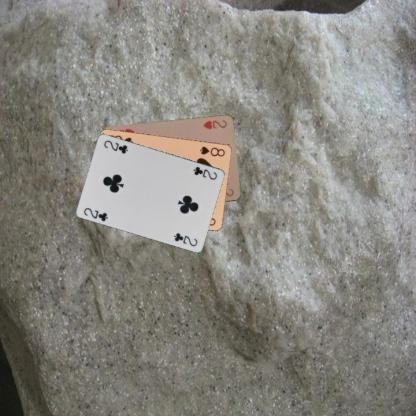2c: (191, 163, 218, 181), (82, 205, 109, 223)
2h: (201, 117, 228, 131)
8s: (198, 143, 226, 158)
